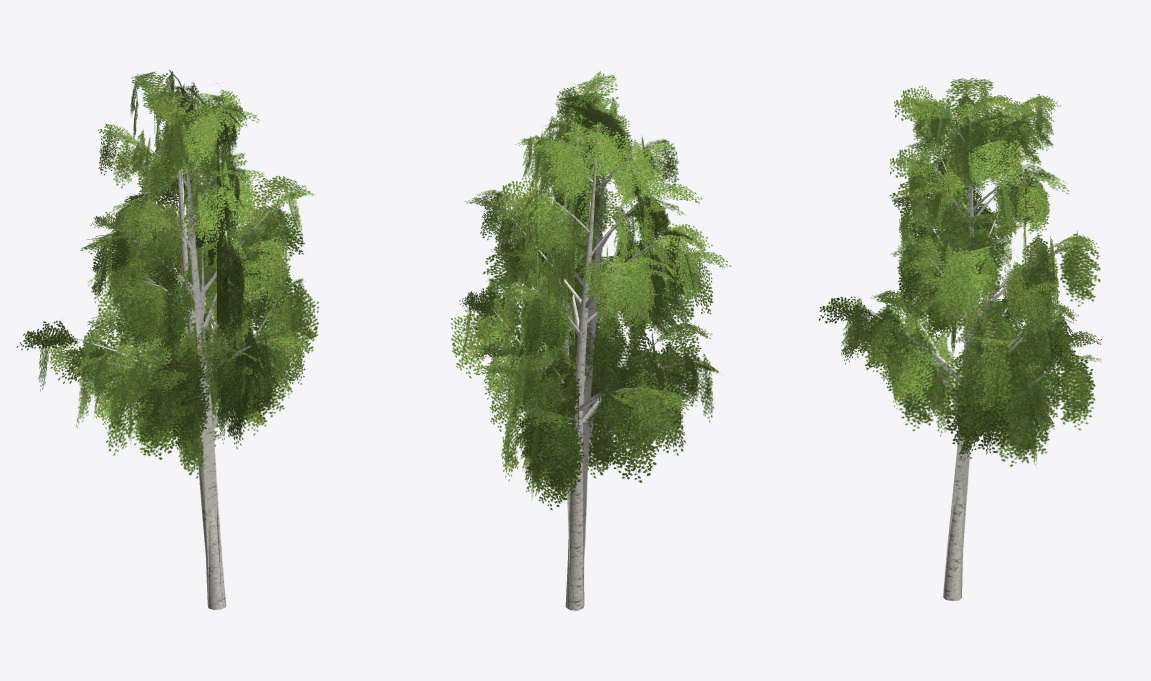
Rendered from tree_birch.glb.
3 views of the same model, side by side, from view 1: azimuth 30°, elevation 25°; view 2: azimuth 150°, elevation 25°; view 3: azimuth 270°, elevation 25° (orthographic). The views are drawn at different scales.
Visible parts, largest first — view 1: crown, far, trunk; view 2: crown, far, trunk; view 3: crown, far, trunk.
Part boxes in pixels (left/top/right/bottom): crown: left=16, top=71, right=312, bottom=461; far: left=73, top=70, right=319, bottom=599; trunk: left=69, top=91, right=265, bottom=609; crown: left=450, top=75, right=731, bottom=510; far: left=473, top=71, right=718, bottom=598; trunk: left=492, top=99, right=664, bottom=610; crown: left=818, top=78, right=1101, bottom=460; far: left=819, top=97, right=1101, bottom=588; trunk: left=870, top=101, right=1056, bottom=601.
Size of the model in its own units: 7.46 by 11.3 by 7.45.
3 materials, 3 textured.
